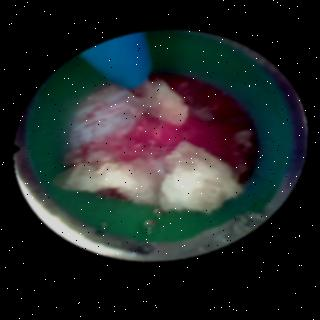fiber: (84, 36, 149, 90)
stone: (156, 143, 243, 215), (53, 160, 158, 204), (135, 84, 187, 128)
